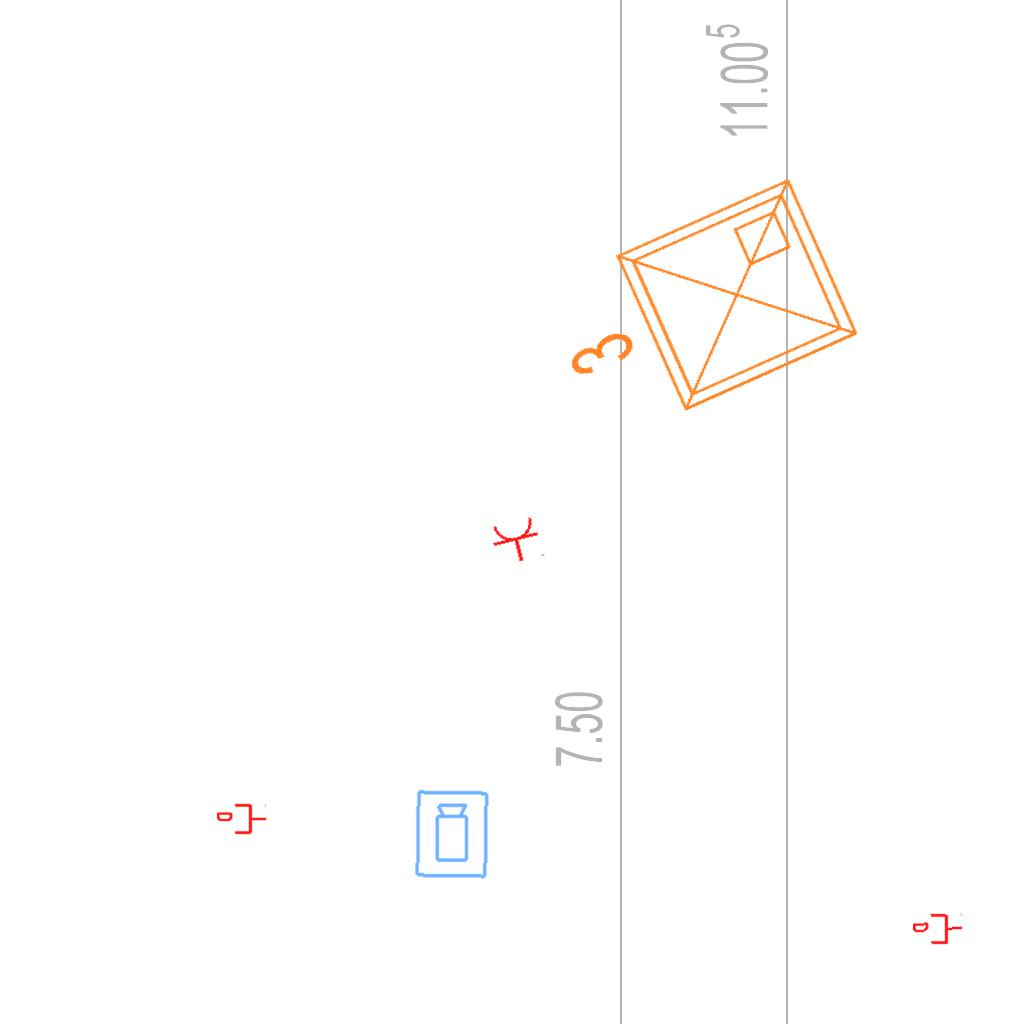Datenanschluss_einfach: (912, 911, 964, 947), (217, 802, 267, 836)
Einbaudownlights_LED_Konferenzraeume: (521, 158, 881, 472)
KFO_Kamera_mit_Festobjektiv: (413, 788, 492, 881)
Schukosteckdose_einfach: (488, 514, 547, 568)
